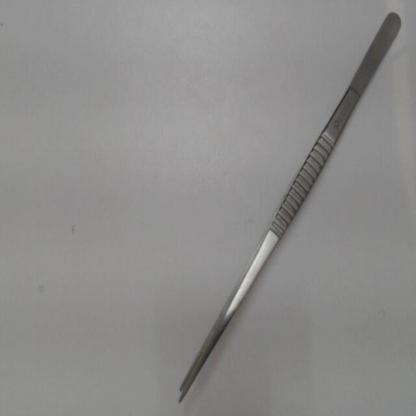DeBakey Dissector: (166, 9, 410, 413)
